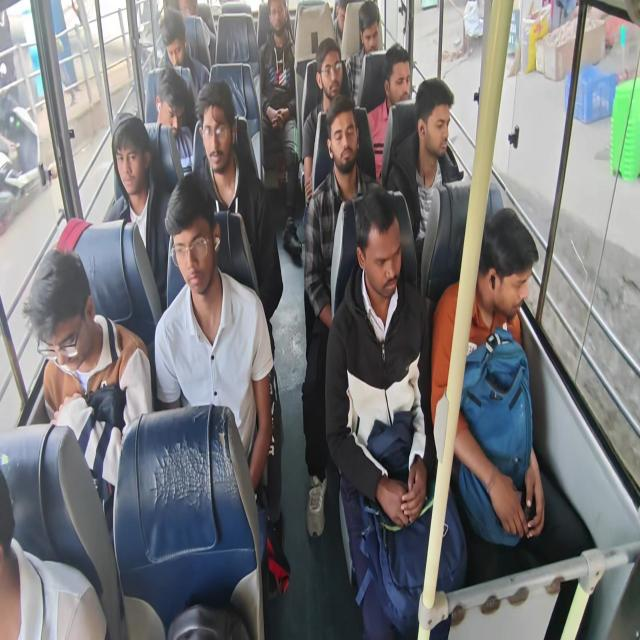person: (26, 275, 89, 370), (168, 194, 217, 291), (482, 228, 530, 319), (360, 218, 404, 303), (415, 84, 455, 159), (196, 100, 232, 168), (107, 128, 142, 192), (326, 106, 356, 166), (359, 6, 384, 69), (313, 44, 341, 100), (160, 19, 194, 65), (386, 49, 412, 105), (158, 89, 185, 138), (259, 0, 292, 38), (175, 0, 204, 27), (332, 0, 354, 34)
